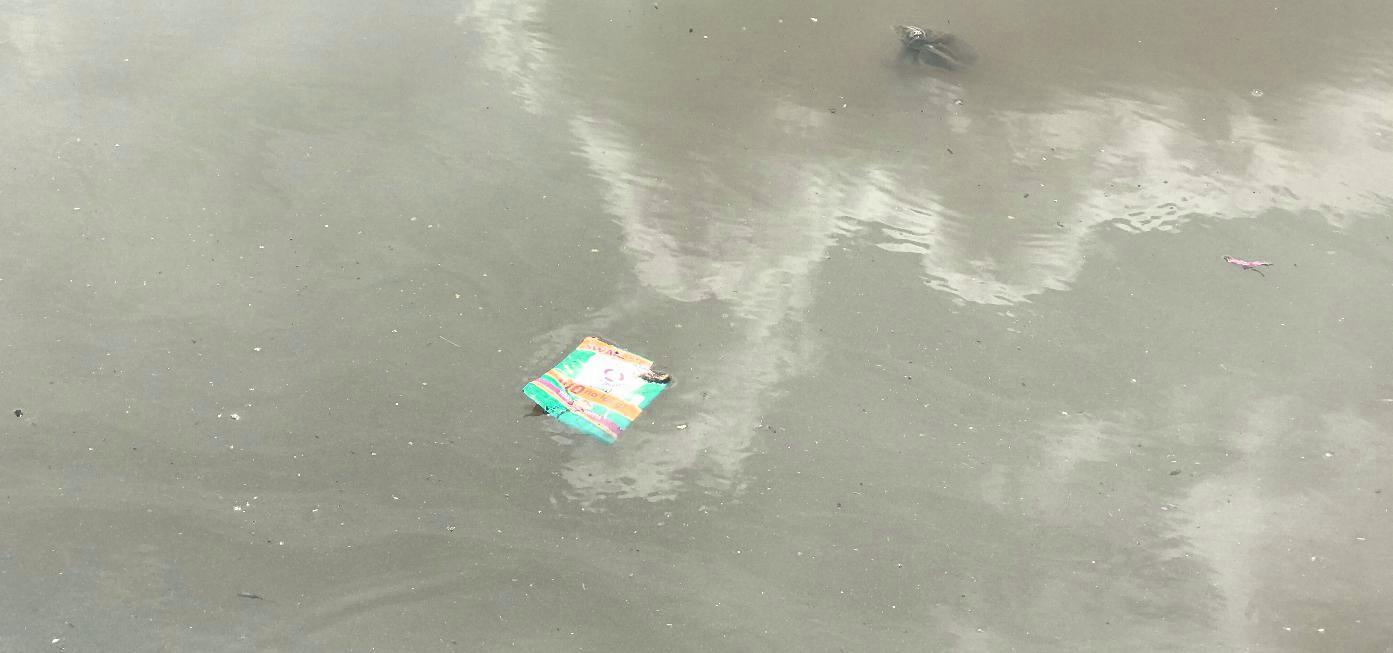Trash: (521, 335, 670, 445)
